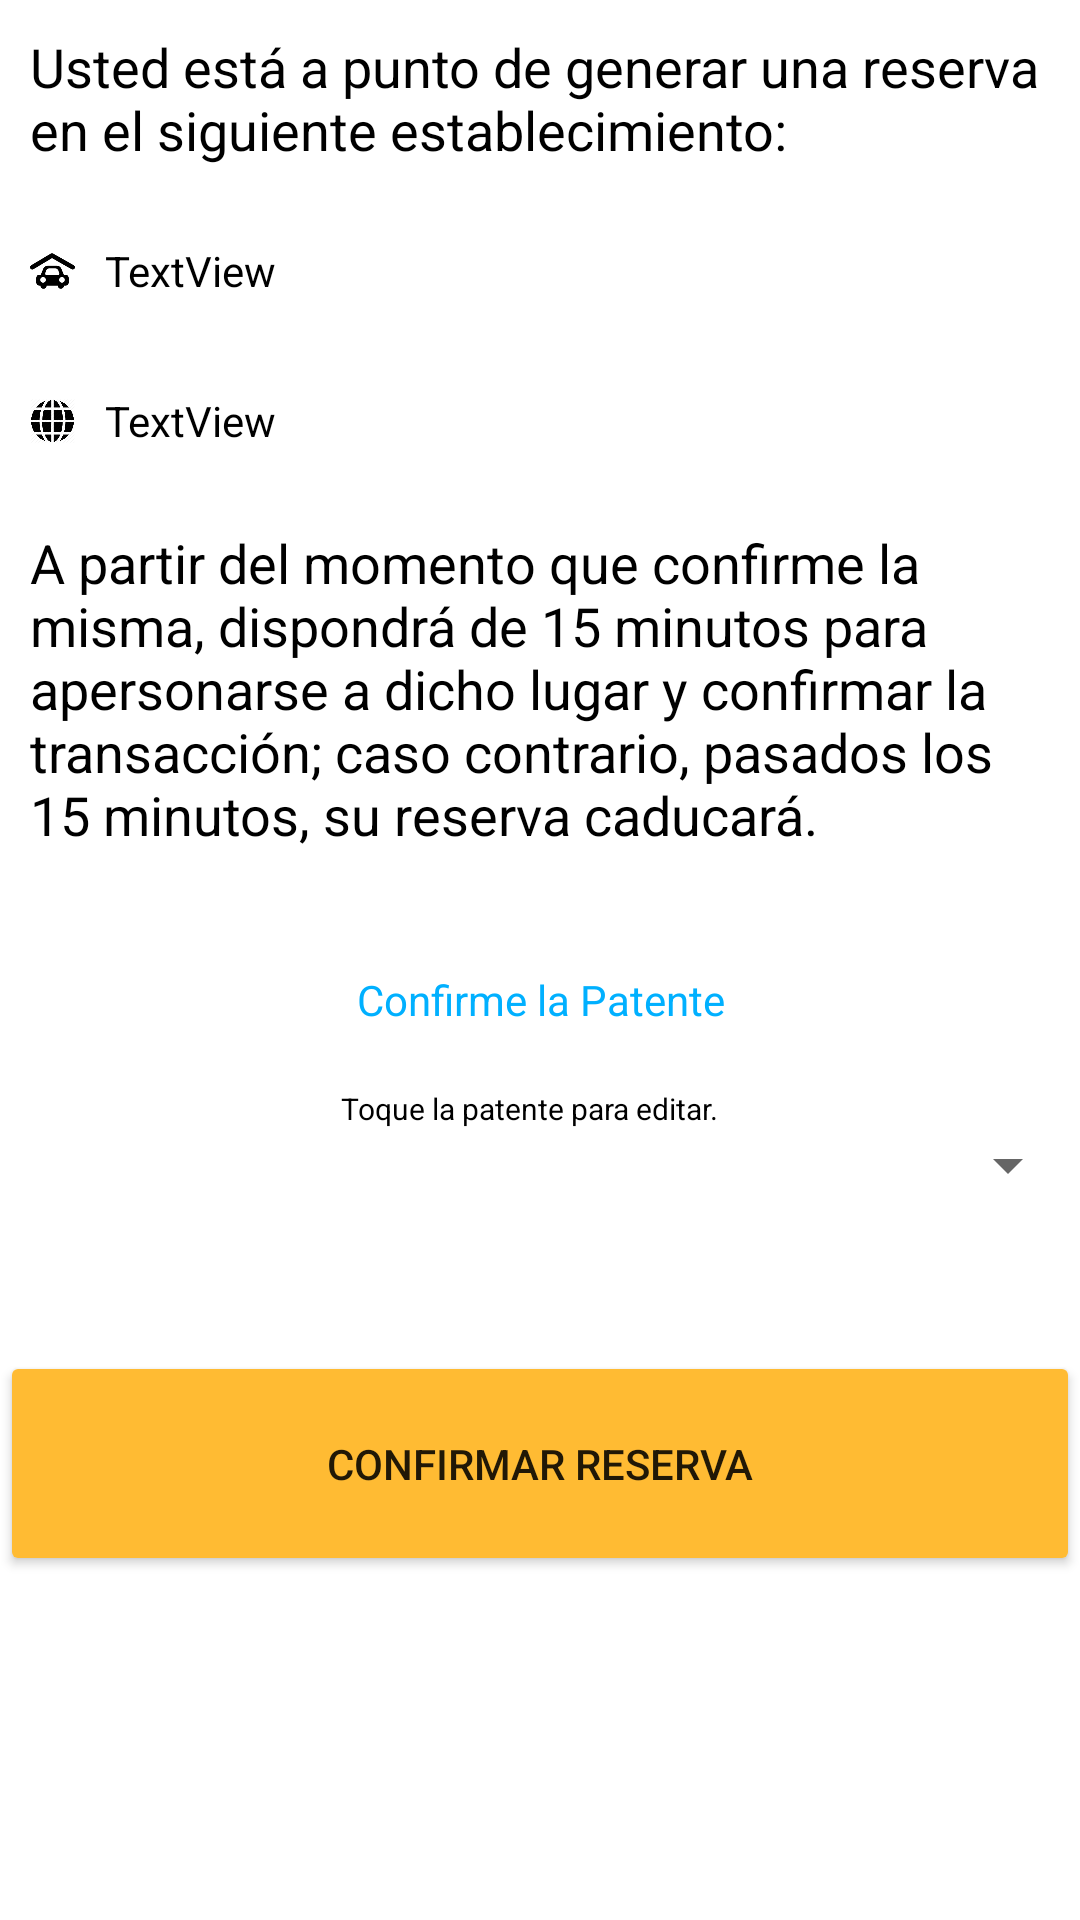

Named icons in this screenshot (1080 × 1920) and their bounding boxes, (x1, y1, x2, y2):
globe: (31, 400, 74, 442)
techado: (30, 253, 75, 289)
